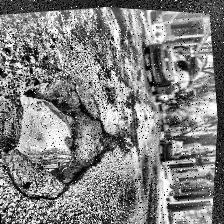pothole: (5, 74, 129, 196)
